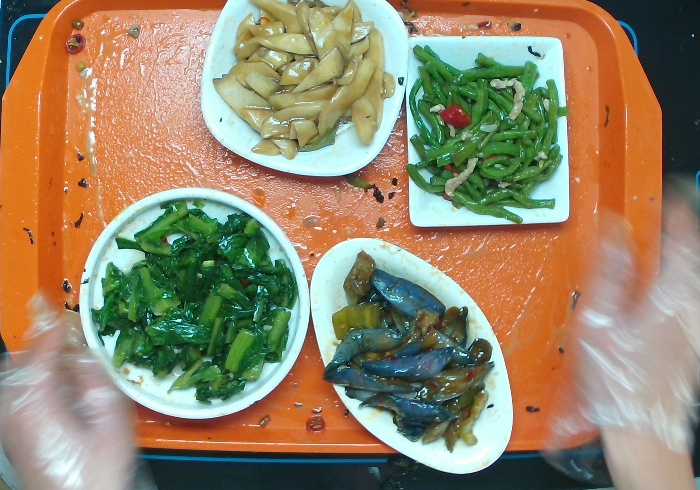HZYJPL-Si_Fang_Die: (400, 29, 576, 231)
HZYJPL-Si_Fang_Yuan_Die: (196, 1, 414, 180)
HZYJPL-Xiao_Yu_Die: (306, 234, 518, 480)
HZYJPL-Xiao_Yuan_Die: (70, 180, 315, 423)
